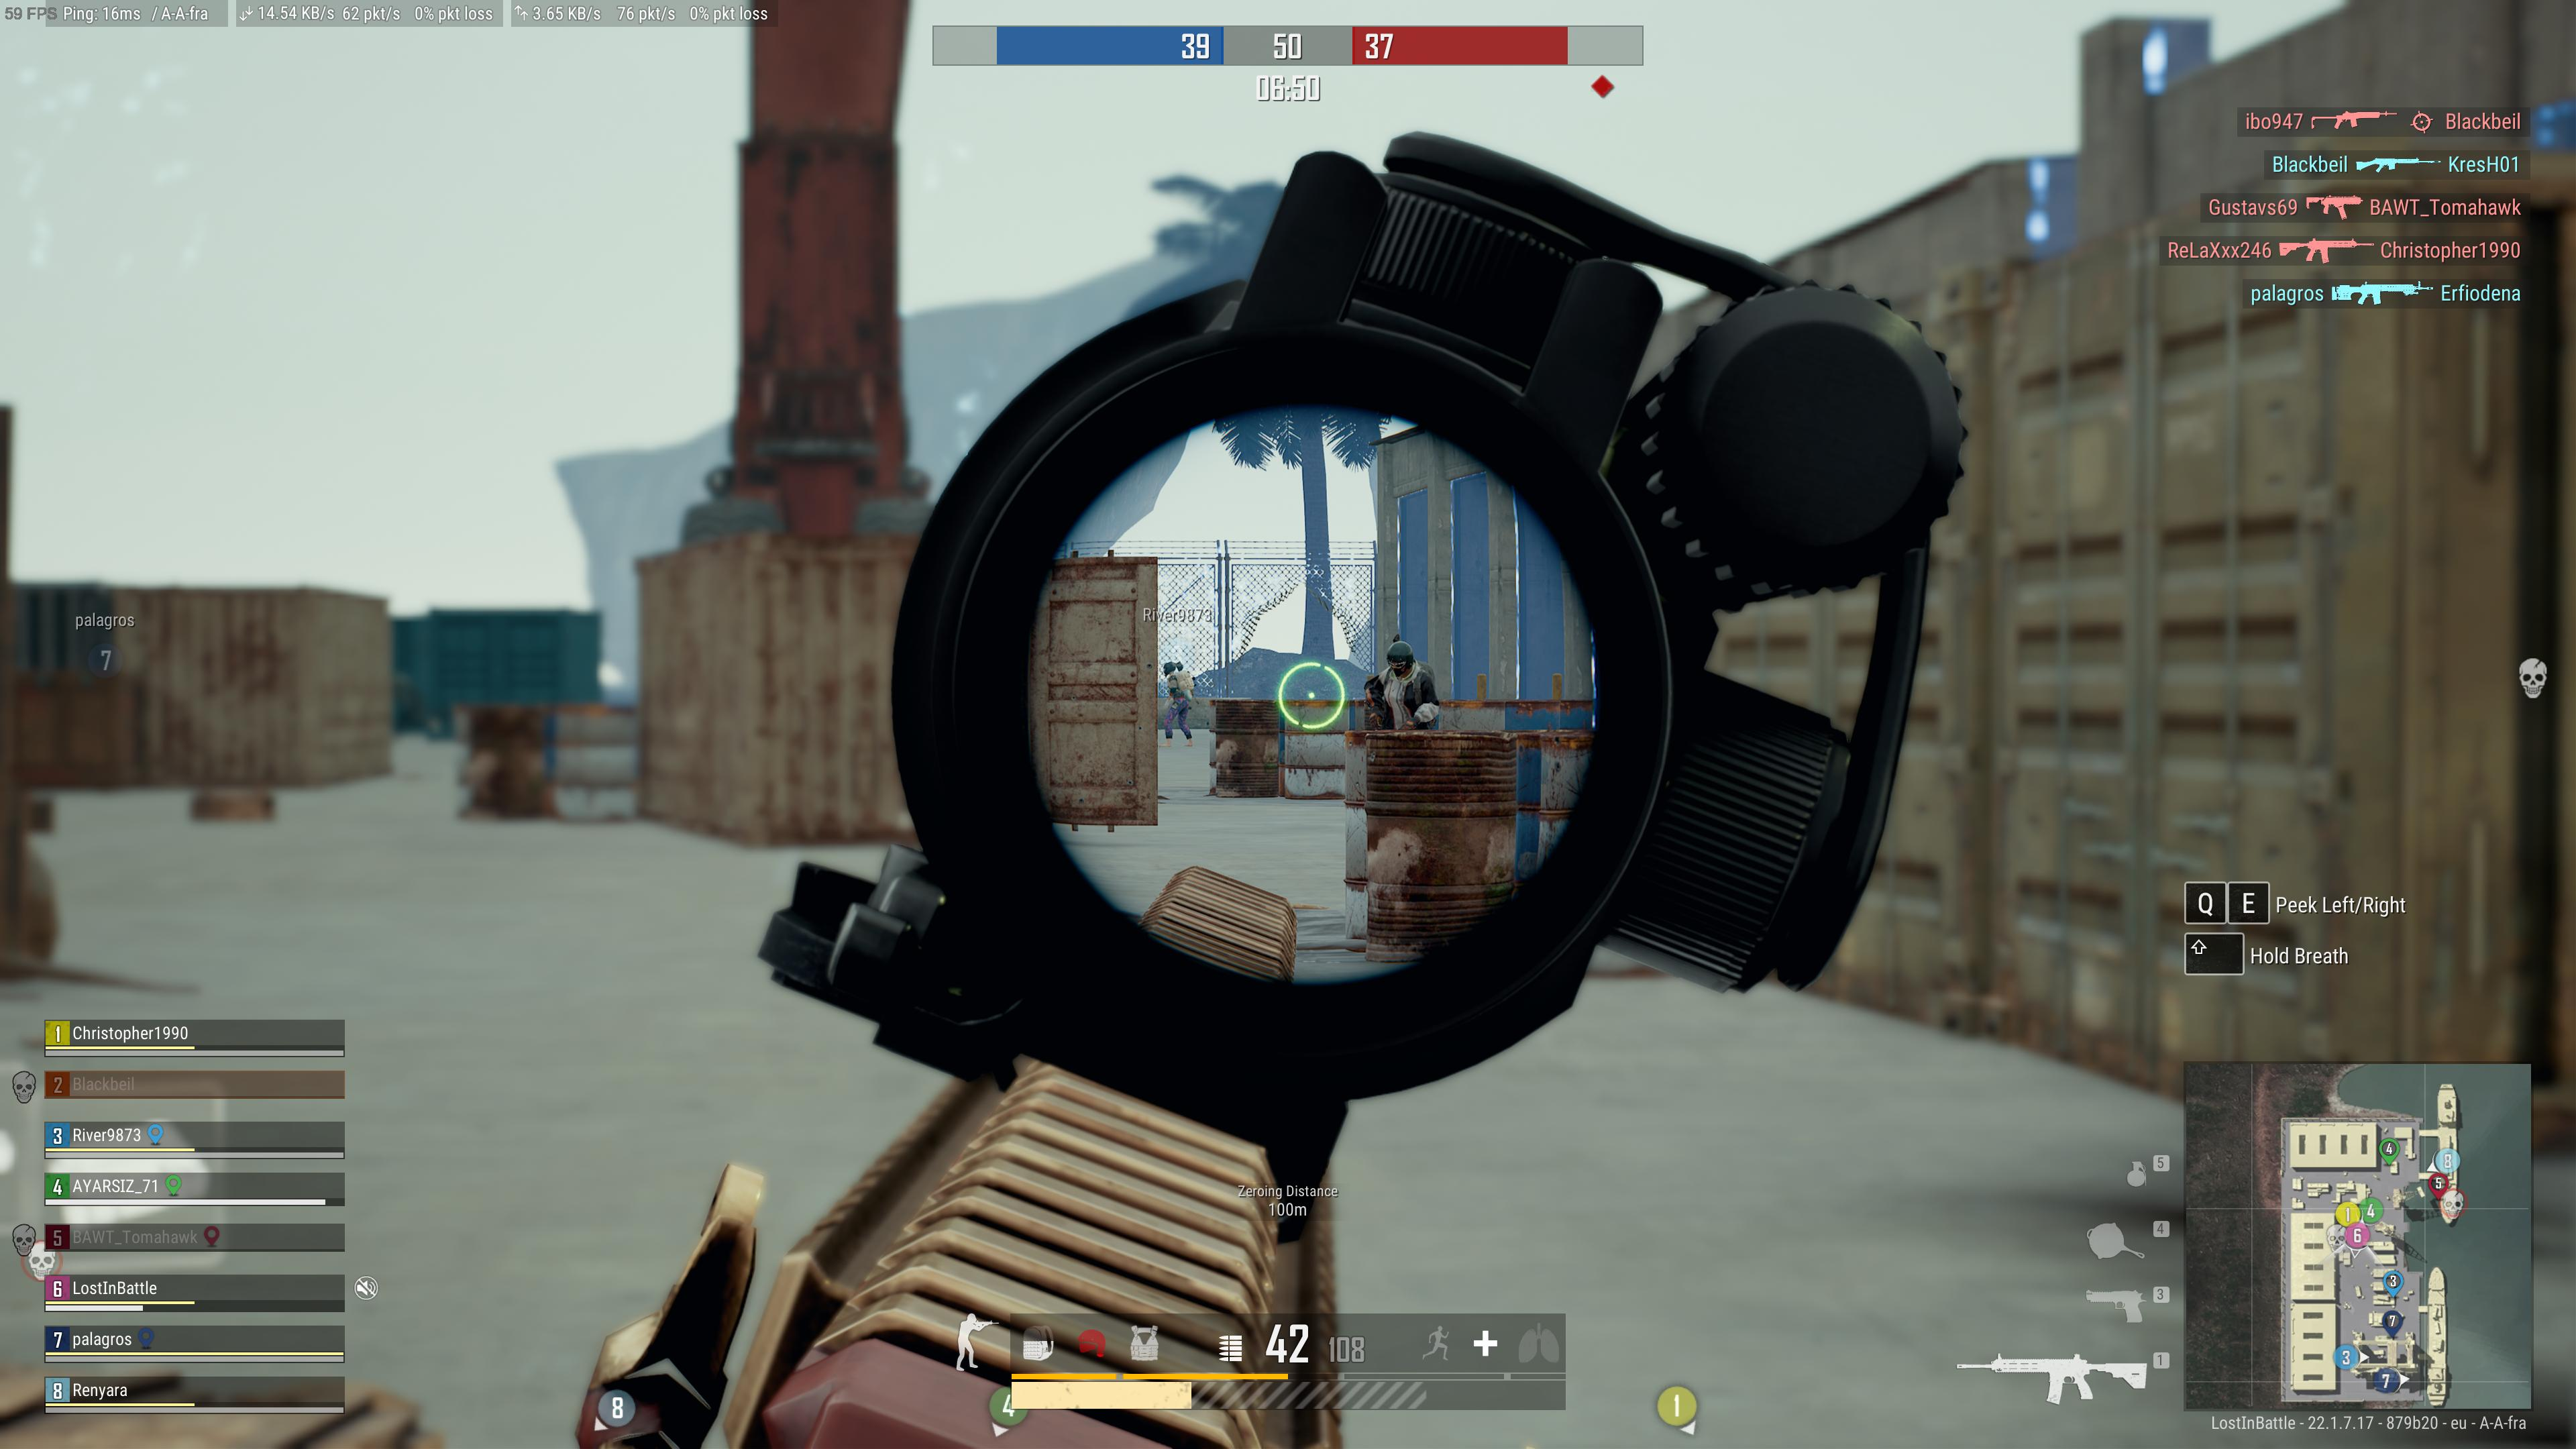enemy: (1362, 639, 1440, 727)
enemy_head: (1385, 639, 1414, 676)
friendly: (1155, 653, 1196, 745)
